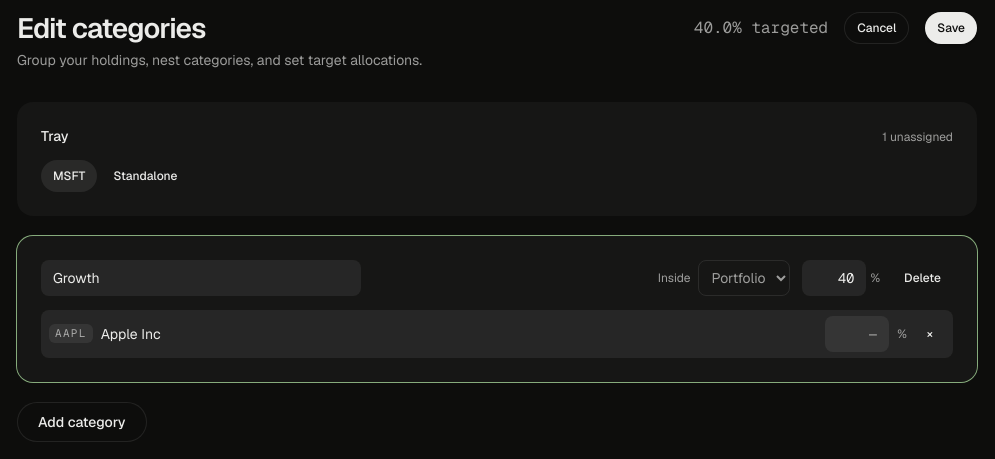
it: CategoriesEditor › does not swallow a space typed into a category name (card's keyboard-select guard must ignore bubbled input keydowns)
In the field with placeholder "Category name": (201, 278) 41,260 -> 361,296, type " Stocks"
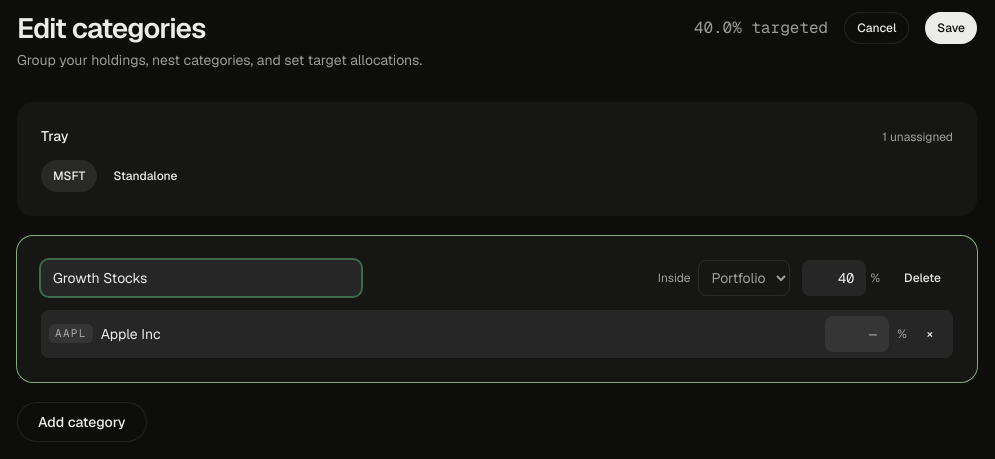
Now the field with placeholder "Category name" holds "Growth Stocks", box 41,260 -> 361,296
